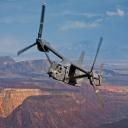helicopter: (18, 3, 109, 112)
